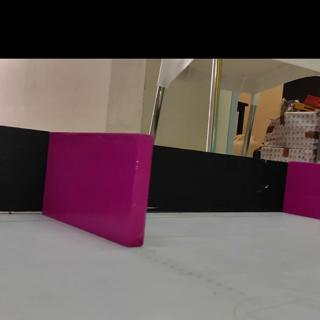xparking: (49, 135, 146, 237), (289, 162, 320, 213)
